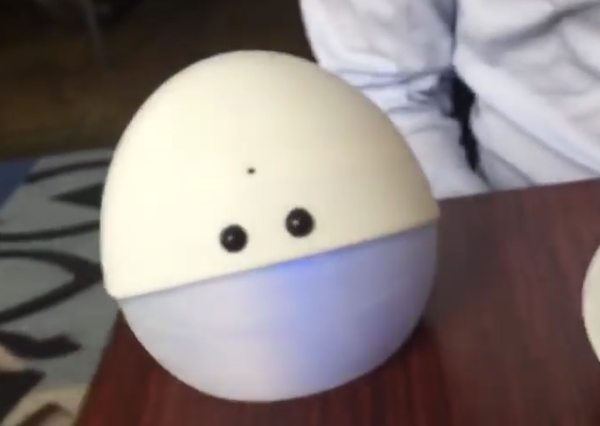mira_robot: (100, 50, 441, 404)
